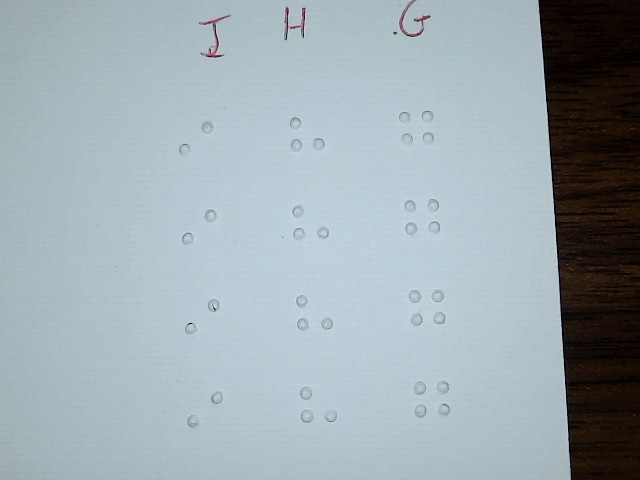G: (398, 98, 436, 164), (404, 187, 442, 253), (408, 278, 446, 344), (413, 370, 451, 436)
H: (288, 106, 326, 172), (292, 195, 330, 261), (296, 285, 334, 351), (299, 374, 337, 440)
I: (177, 111, 215, 177), (181, 198, 219, 264), (186, 379, 224, 445)
